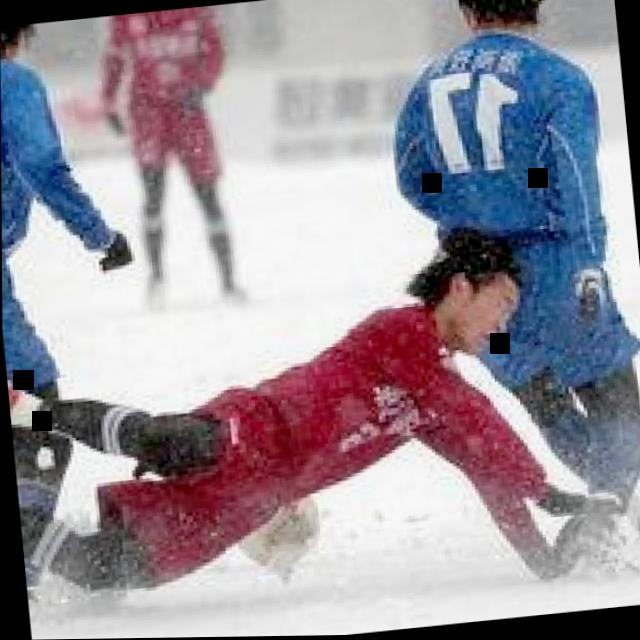Fall-Detected: (1, 192, 637, 640)
